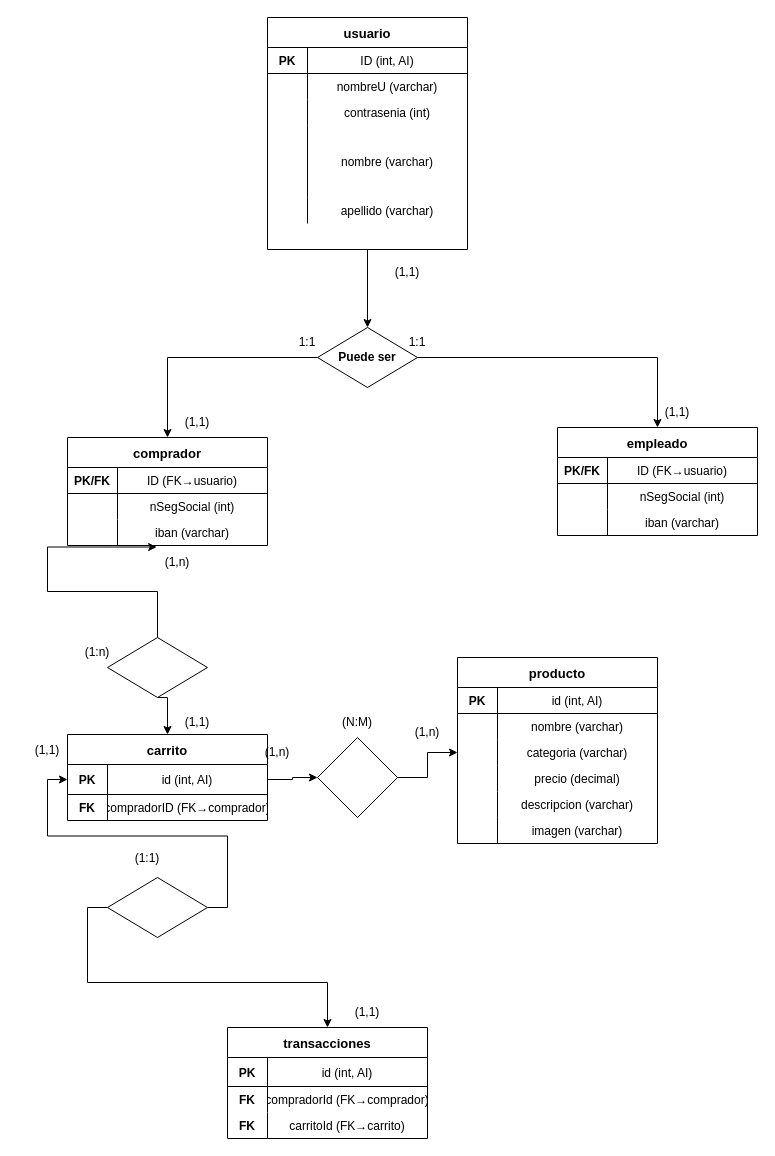
The diagram is 775 pixels wide and 1156 high, and some of its shapes have lost their labels. The centre of each missing label's shape, as x and y in pixels:
Contiene: [357,777]
genera: [157,907]
tiene: [157,667]
